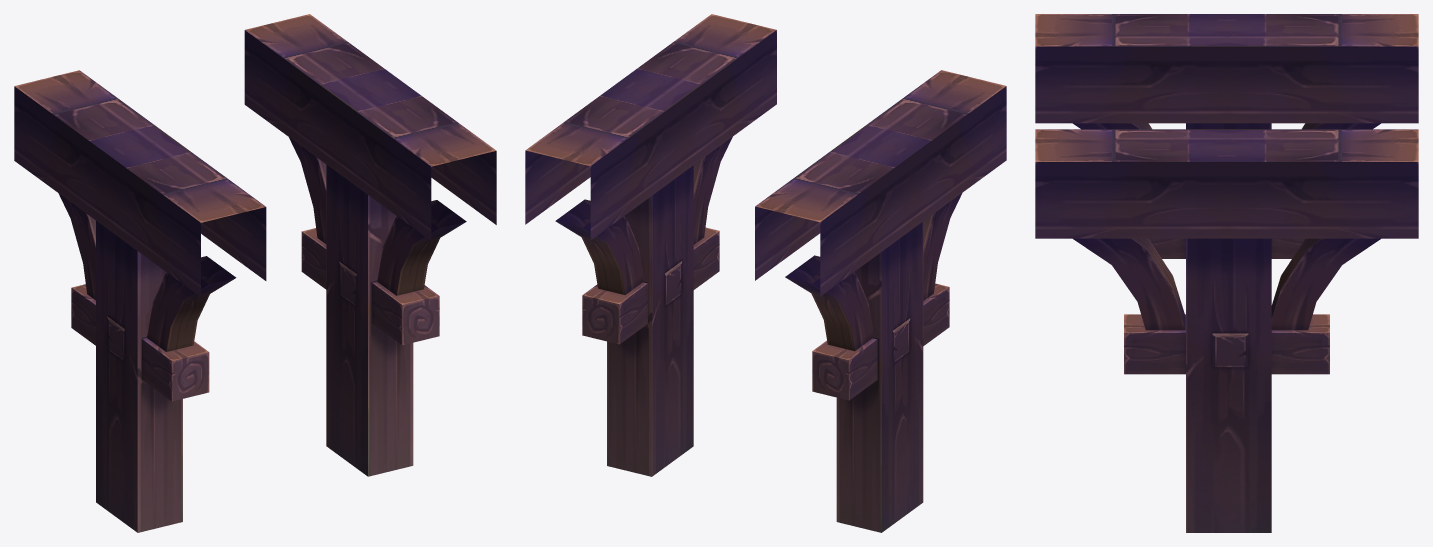
The model's file is scenes_town_roadbed01.FBX.
3 renders of one model, left to right at view 1: azimuth 30°, elevation 25°; view 2: azimuth 150°, elevation 25°; view 3: azimuth 270°, elevation 25°, orthographic. The views are drawn at different scales.
Visible parts, largest first — view 1: scenes_town_roadbed01; view 2: scenes_town_roadbed01; view 3: scenes_town_roadbed01.
Boxes of the visible parts, bbox=[...] form: scenes_town_roadbed01: bbox=[14, 14, 496, 532]; scenes_town_roadbed01: bbox=[525, 14, 1006, 532]; scenes_town_roadbed01: bbox=[1035, 14, 1418, 532].
Bounding box in the file's own units: 439 × 520 × 481.
